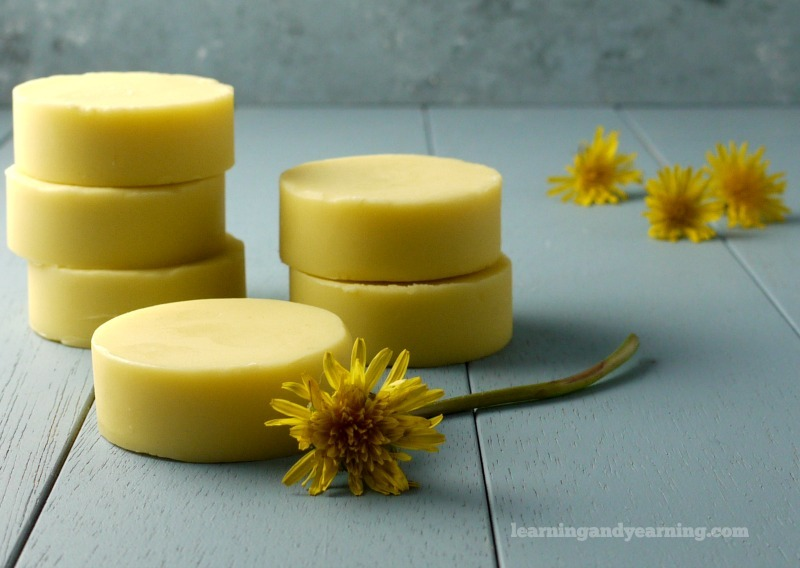dandelion: (287, 350, 455, 515)
